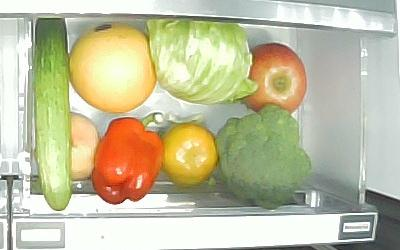apple: (244, 42, 307, 115)
broccoli: (215, 104, 313, 210)
cucumber: (33, 19, 72, 211)
grapefruit: (69, 21, 155, 114)
lettuce: (147, 19, 257, 104)
paprika: (92, 111, 163, 205)
peach: (69, 113, 99, 180)
persimmon: (162, 124, 217, 187)
